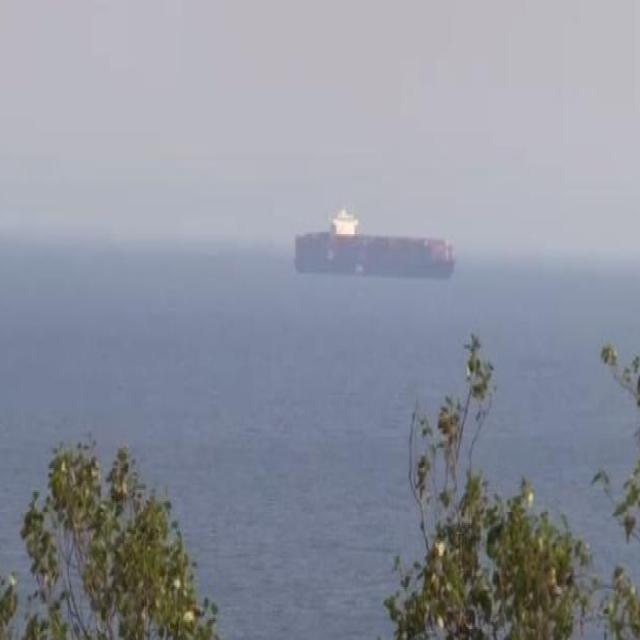cargoship: (293, 204, 455, 277)
